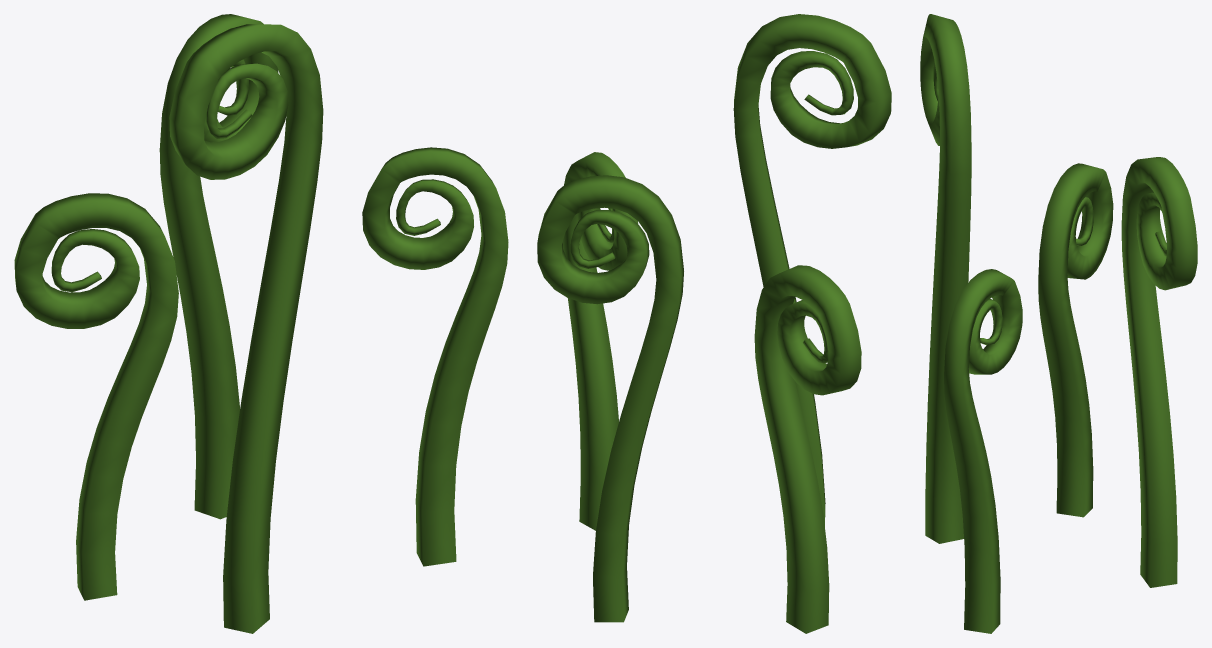
The model's file is Plant-VwXvoIpCHP.glb.
3 renders of one model, left to right at view 1: azimuth 30°, elevation 25°; view 2: azimuth 150°, elevation 25°; view 3: azimuth 270°, elevation 25°, orthographic. The views are drawn at different scales.
Parts seen in each view (by area): view 1: Plant_3; view 2: Plant_3; view 3: Plant_3.
Boxes of the visible parts, left/top/right/bottom form: Plant_3: left=14, top=14, right=508, bottom=633; Plant_3: left=537, top=14, right=891, bottom=633; Plant_3: left=920, top=14, right=1197, bottom=633.
Bounding box in the file's own units: 2.12 × 2.98 × 1.44.
1 material, 1 textured.
